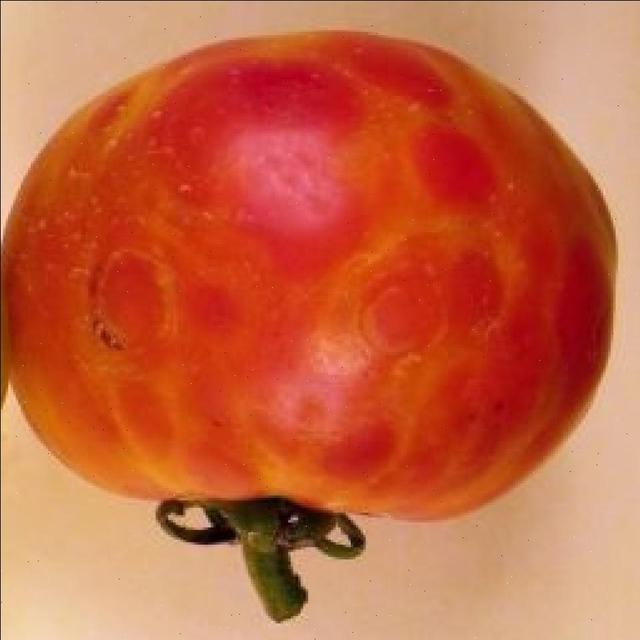Spotted wilt Virus Fruit: (0, 20, 410, 350)
